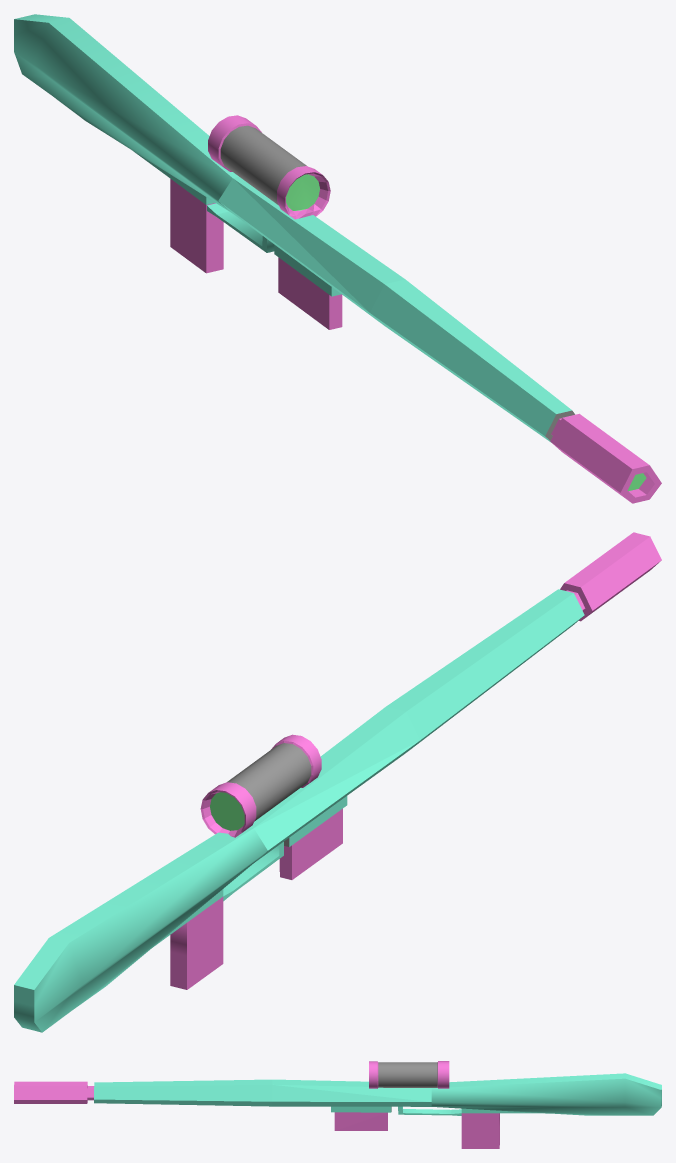
The model's file is SniperAmeliorer.FBX.
3 views of the same model, one above another, from view 1: azimuth 30°, elevation 25°; view 2: azimuth 150°, elevation 25°; view 3: azimuth 270°, elevation 25° (orthographic). The views are drawn at different scales.
Parts seen in each view (by area): view 1: Box026; view 2: Box026; view 3: Box026.
Boxes of the visible parts, box(x1,y1,x2,y2) form: Box026: box(14, 14, 661, 503); Box026: box(14, 532, 661, 1032); Box026: box(14, 1061, 661, 1148).
Bounding box in the file's own units: 69.77 × 206 × 1416.
